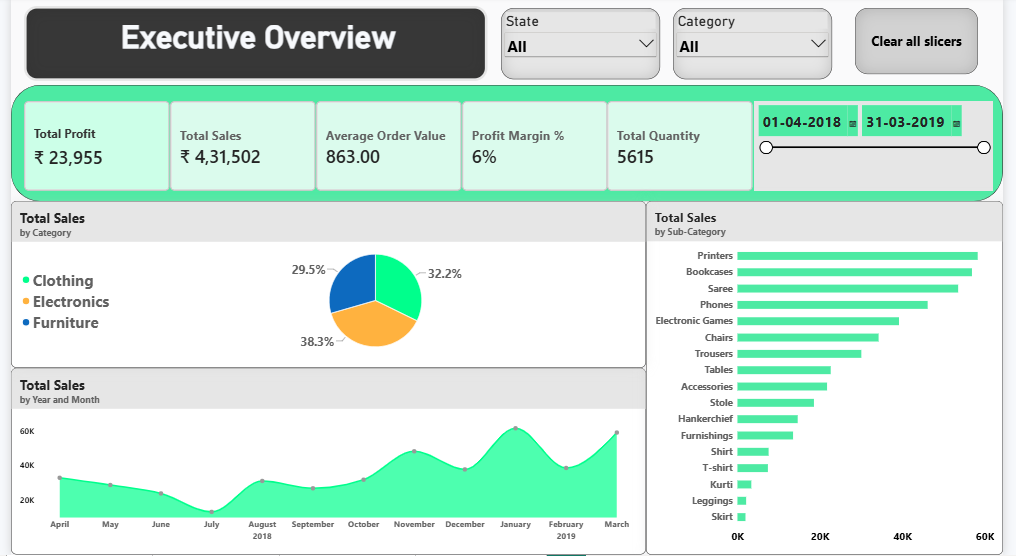

The dashboard page shown, as its layout file describes it:
{"tool":"powerbi","page":{"name":"Executive Overview","canvas":[1920,1080],"ordinal":0},"visuals":[{"type":"shape","box":[0,170.1,1919.8,225.4],"z":0},{"type":"textbox","title":" Executive Overview","box":[25,18,897.2,144.6],"z":1000},{"type":"slicer","fields":{"Values":["Table1_1.Category"]},"box":[1282,21.3,308.3,138.2],"z":2000},{"type":"actionButton","box":[1632.8,21.3,238.1,127.6],"z":3000},{"type":"slicer","fields":{"Values":["Table1_1.State"]},"box":[948.2,21.3,308.3,138.2],"z":4000},{"type":"slicer","fields":{"Values":["Table1_1.Order Date"]},"box":[1437.2,202,461,174.3],"z":7000},{"type":"cardVisual","fields":{"Data":["Table1_1.Total Quantity"]},"box":[1154.4,202,282,174.3],"z":8000},{"type":"cardVisual","fields":{"Data":["Table1_1.Total Profit"]},"box":[25.5,202,282.8,174.3],"z":9000},{"type":"cardVisual","fields":{"Data":["Table1_1.Average Order Value"]},"box":[591,202,282,174],"z":10000},{"type":"cardVisual","fields":{"Data":["Table1_1.Profit Margin %"]},"box":[873.8,202,282,174],"z":11000},{"type":"cardVisual","fields":{"Data":["Table1_1.Total Sales"]},"box":[308.3,202,282,174.3],"z":12000},{"type":"lineChart","fields":{"Category":["Table1_1.Year","Table1_1.Order Date.Variation.Date Hierarchy.Month"],"Y":["Table1_1.Total Sales"]},"box":[0,718.6,1228.8,361.4],"z":13000},{"type":"clusteredBarChart","fields":{"Category":["Table1_1.Sub-Category"],"Y":["Table1_1.Total Sales"]},"box":[1228.8,395.4,690.9,684.6],"z":14000},{"type":"pieChart","fields":{"Category":["Table1_1.Category"],"Y":["Table1_1.Total Sales"]},"box":[0,395.4,1228.8,323.1],"z":15000}]}

Visuals, with their boxes in screenshot pixels (x1, y1, x2, y2), scaled from the page's 1920x1080 canvas onto the 1016x556 screenshot:
shape: box(0, 88, 1015, 204)
" Executive Overview" textbox: box(13, 9, 488, 84)
slicer - Table1_1.Category: box(678, 11, 842, 82)
actionButton: box(864, 11, 990, 77)
slicer - Table1_1.State: box(502, 11, 665, 82)
slicer - Table1_1.Order Date: box(761, 104, 1004, 194)
cardVisual - Table1_1.Total Quantity: box(611, 104, 760, 194)
cardVisual - Table1_1.Total Profit: box(13, 104, 163, 194)
cardVisual - Table1_1.Average Order Value: box(313, 104, 462, 194)
cardVisual - Table1_1.Profit Margin %: box(462, 104, 612, 194)
cardVisual - Table1_1.Total Sales: box(163, 104, 312, 194)
lineChart - Table1_1.Year x Table1_1.Order Date.Variation.Date Hierarchy.Month: box(0, 370, 650, 555)
clusteredBarChart - Table1_1.Sub-Category x Table1_1.Total Sales: box(650, 204, 1015, 555)
pieChart - Table1_1.Category x Table1_1.Total Sales: box(0, 204, 650, 370)
